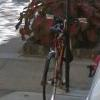Bicycle: (34, 10, 74, 99)
